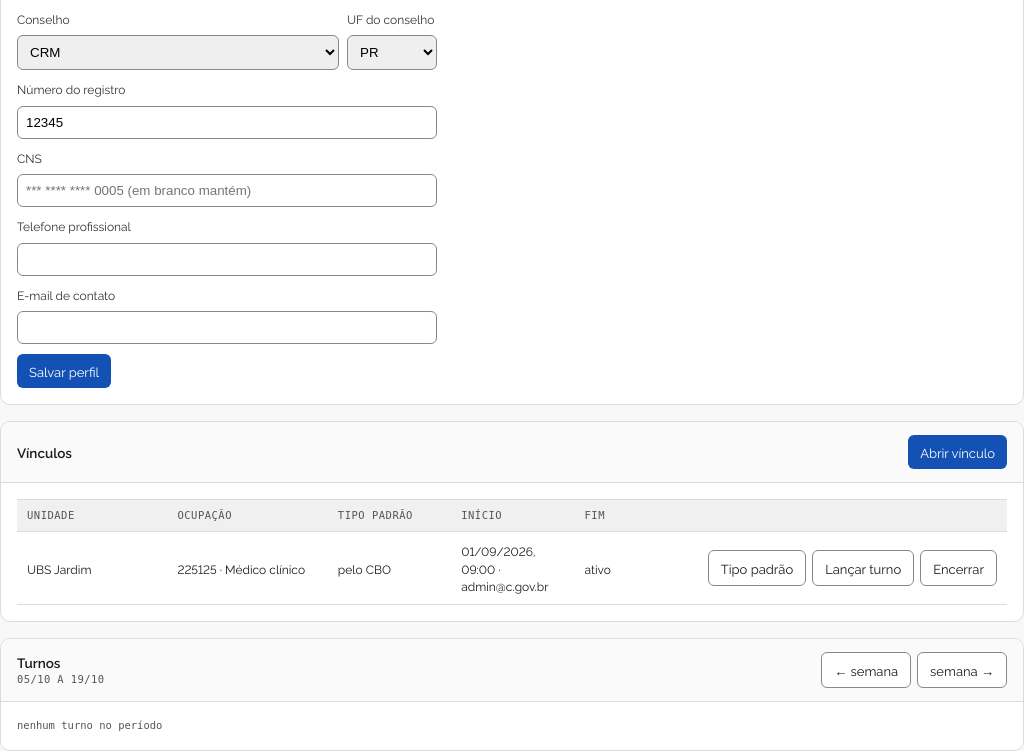
ProfessionalDetail › mostra quantos turnos foram cancelados depois de confirmar o encerramento
(page scrolled)
Click the button "Encerrar".
click(959, 568)  # box [920,550,997,586]
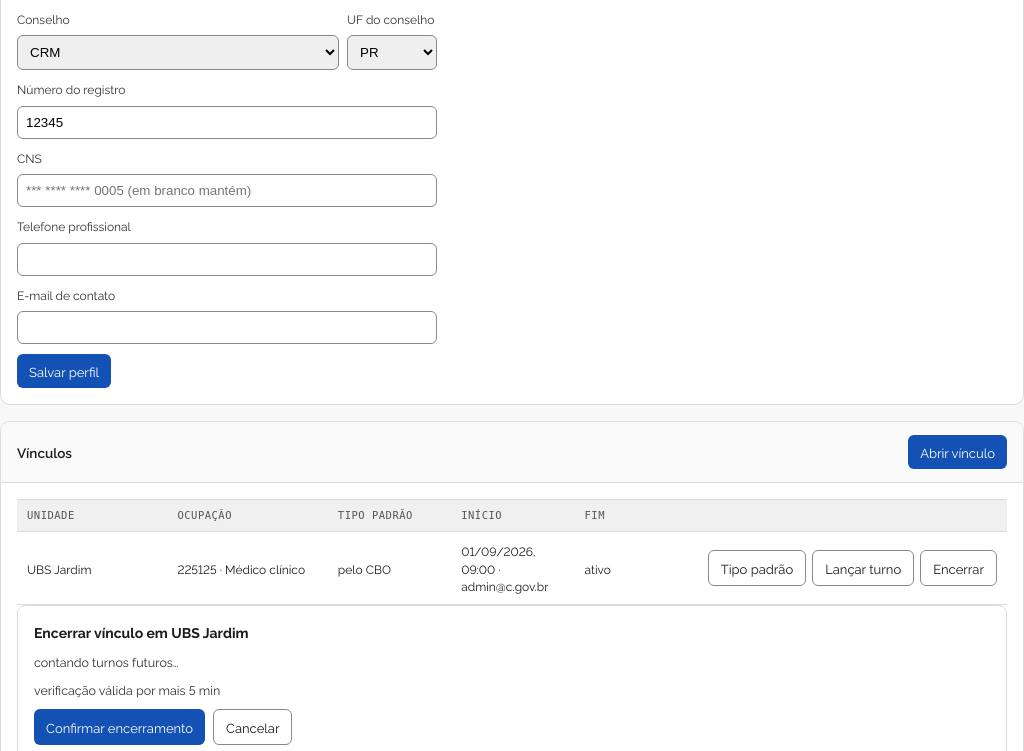
Click the button "Confirmar encerramento".
click(120, 727)  # box [34,709,205,745]
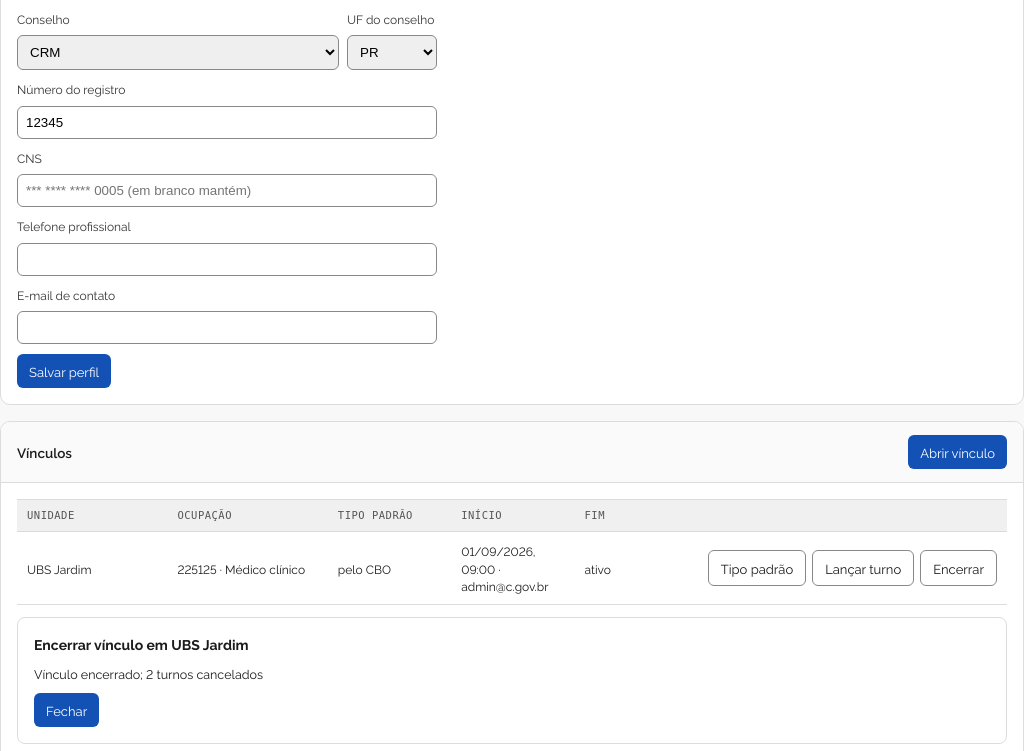
Result: the text "Vínculo encerrado; 2 turnos cancelados" is shown at [34,665,263,682]
